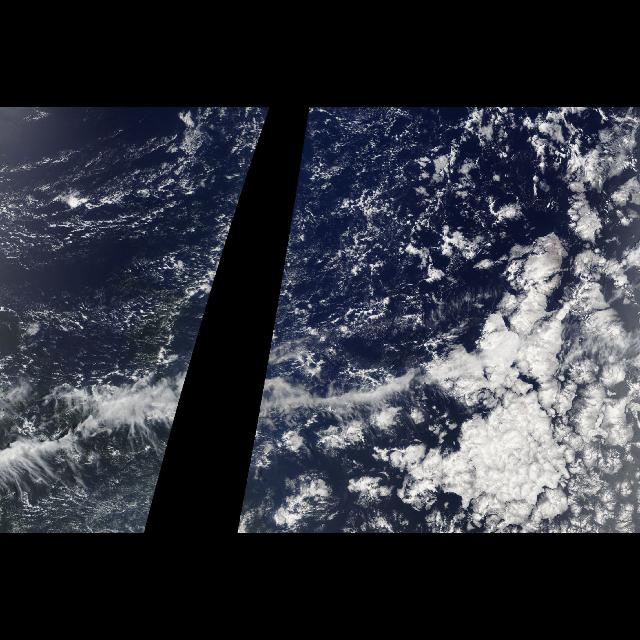Flower: (364, 201, 640, 533)
Gravel: (334, 130, 488, 322)
Sugar: (0, 114, 250, 360), (296, 108, 406, 356)
